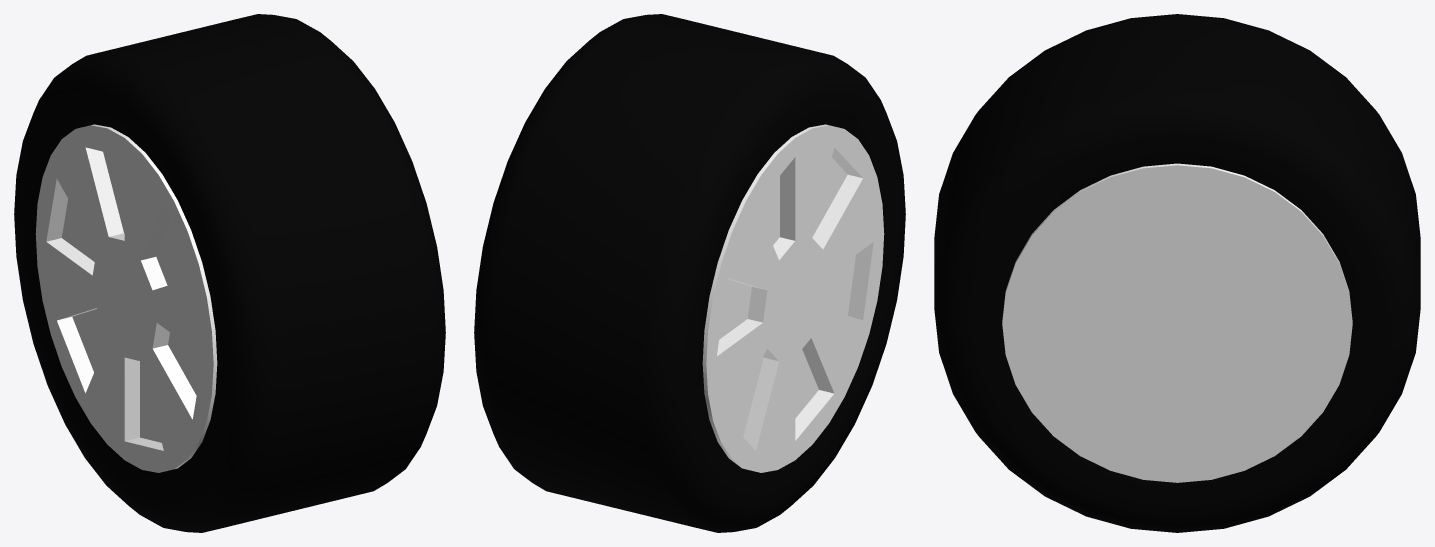
File: Wheel.obj
3 views of the same model, side by side, from view 1: azimuth 30°, elevation 25°; view 2: azimuth 150°, elevation 25°; view 3: azimuth 270°, elevation 25° (orthographic).
Visible parts, largest first — view 1: Wheel1; view 2: Wheel1; view 3: Wheel1.
Boxes of the visible parts, x1,y1,x2,y2 form: Wheel1: [14, 14, 445, 532]; Wheel1: [474, 14, 905, 532]; Wheel1: [934, 14, 1420, 532].
Bounding box in the file's own units: 0.9853 × 2 × 2.
1 material, 1 textured.
